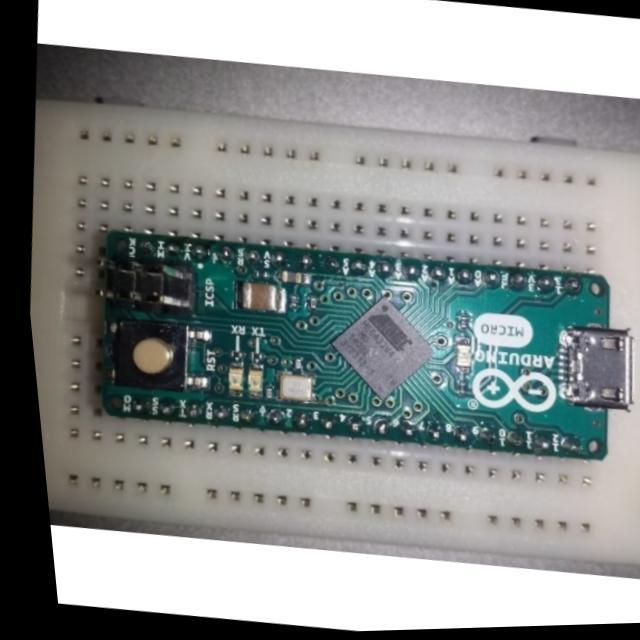Arduino-Micro: (103, 232, 630, 460)
